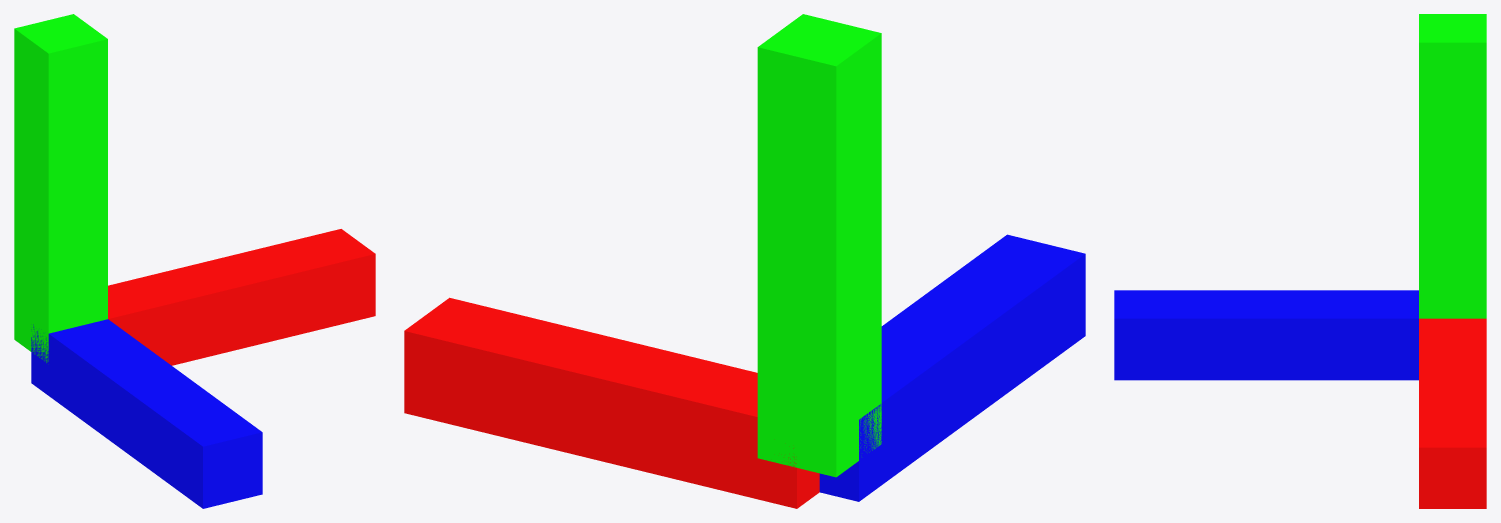
File: translate_colllider.glb
3 views of the same model, side by side, from view 1: azimuth 30°, elevation 25°; view 2: azimuth 150°, elevation 25°; view 3: azimuth 270°, elevation 25° (orthographic). The views are drawn at different scales.
Visible parts, largest first — view 1: Cube.001, Cube.002, Cube.004; view 2: Cube.001, Cube.004, Cube.002; view 3: Cube.002, Cube.001, Cube.004.
Part boxes in pixels (box(x1,y1,x2,y2)): Cube.001: box(14, 14, 107, 362); Cube.002: box(31, 319, 262, 508); Cube.004: box(108, 229, 375, 365); Cube.001: box(757, 14, 881, 477); Cube.004: box(404, 297, 819, 508); Cube.002: box(819, 234, 1085, 501); Cube.002: box(1114, 290, 1418, 380); Cube.001: box(1419, 14, 1486, 318); Cube.004: box(1419, 318, 1486, 508).
Bounding box in the file's own units: 1.1 × 1.1 × 1.1.
